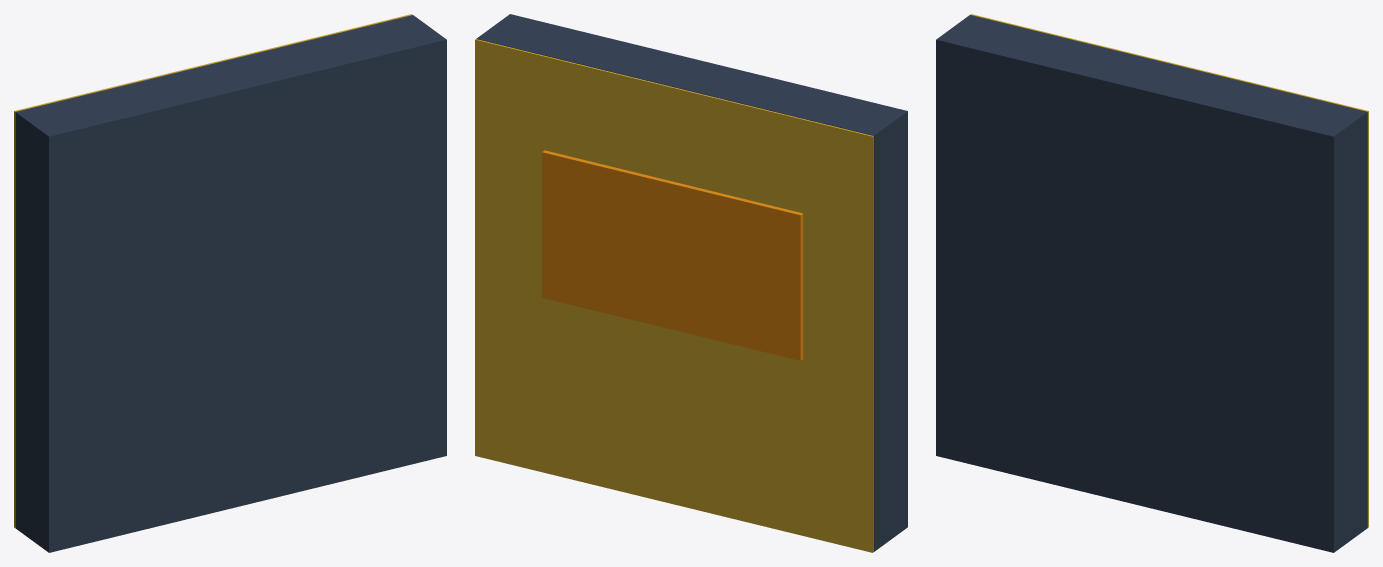
The model's file is bảng hiệu xinhan bạt 2 mặt có trụ 150 x 150.obj.
3 renders of one model, left to right at view 1: azimuth 30°, elevation 25°; view 2: azimuth 150°, elevation 25°; view 3: azimuth 330°, elevation 25°, orthographic.
Visible parts, largest first — view 1: Khung_Ket_Cau, Vien_Kim_Loai_Nẹp; view 2: Vien_Kim_Loai_Nẹp, Chu_Noi_3D_Logo, Khung_Ket_Cau; view 3: Khung_Ket_Cau, Vien_Kim_Loai_Nẹp.
Boxes of the visible parts, x1,y1,x2,y2 form: Khung_Ket_Cau: [15, 15, 446, 552]; Vien_Kim_Loai_Nẹp: [14, 14, 412, 527]; Vien_Kim_Loai_Nẹp: [475, 39, 873, 552]; Chu_Noi_3D_Logo: [542, 150, 803, 360]; Khung_Ket_Cau: [476, 14, 907, 551]; Khung_Ket_Cau: [936, 15, 1367, 552]; Vien_Kim_Loai_Nẹp: [970, 14, 1368, 527].
Size of the model in its own units: 1.5 by 1.5 by 0.246.
